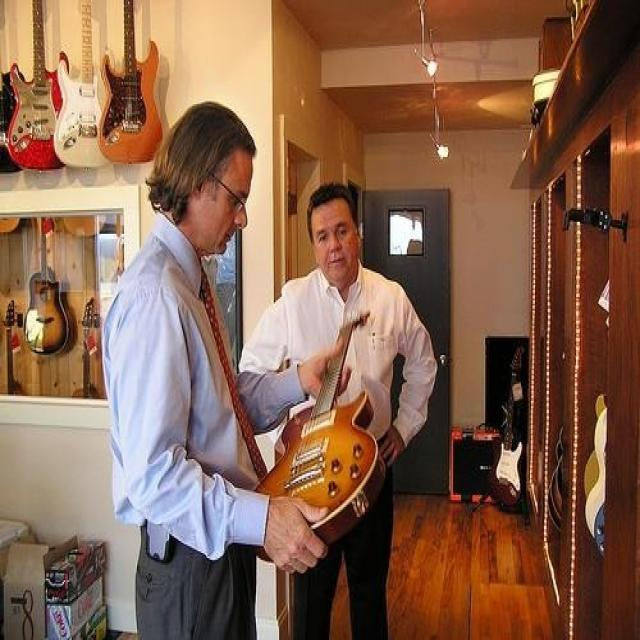guitar: (253, 302, 388, 568), (96, 0, 168, 163), (53, 0, 119, 172), (8, 0, 70, 172), (482, 344, 533, 507), (19, 209, 72, 358), (0, 0, 27, 178)
